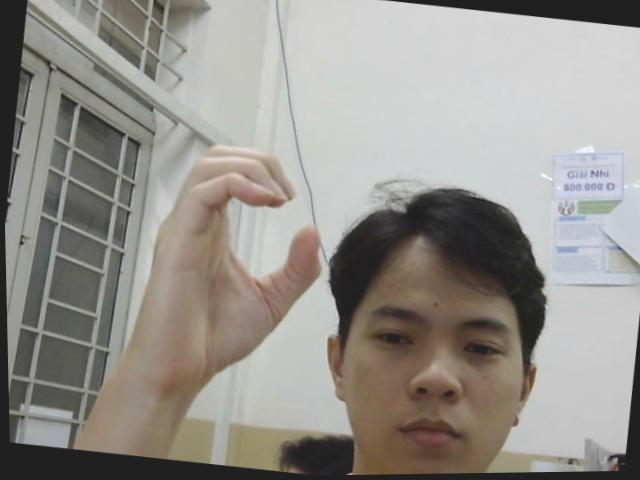C: (125, 134, 336, 398)
